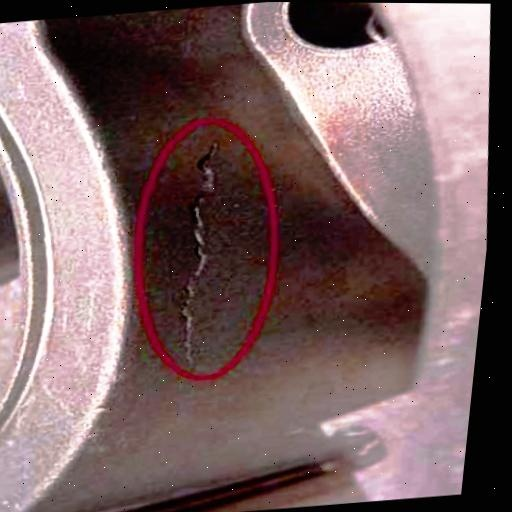crack: (145, 138, 261, 373)
